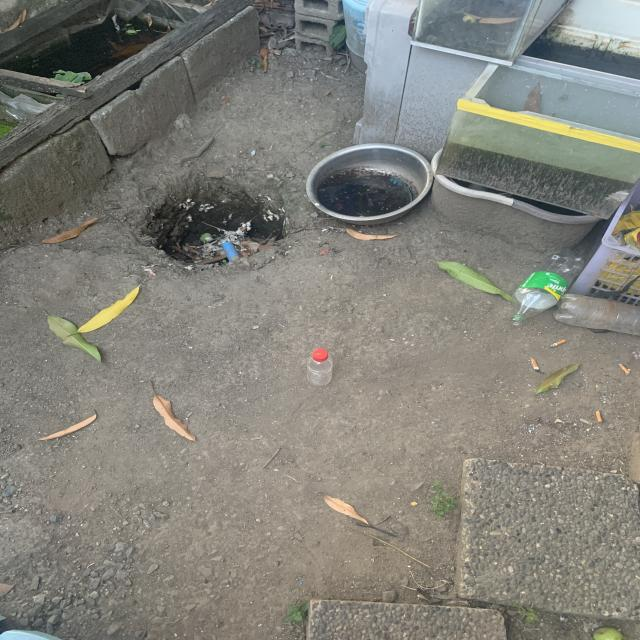Bottle: (307, 348, 333, 387)
